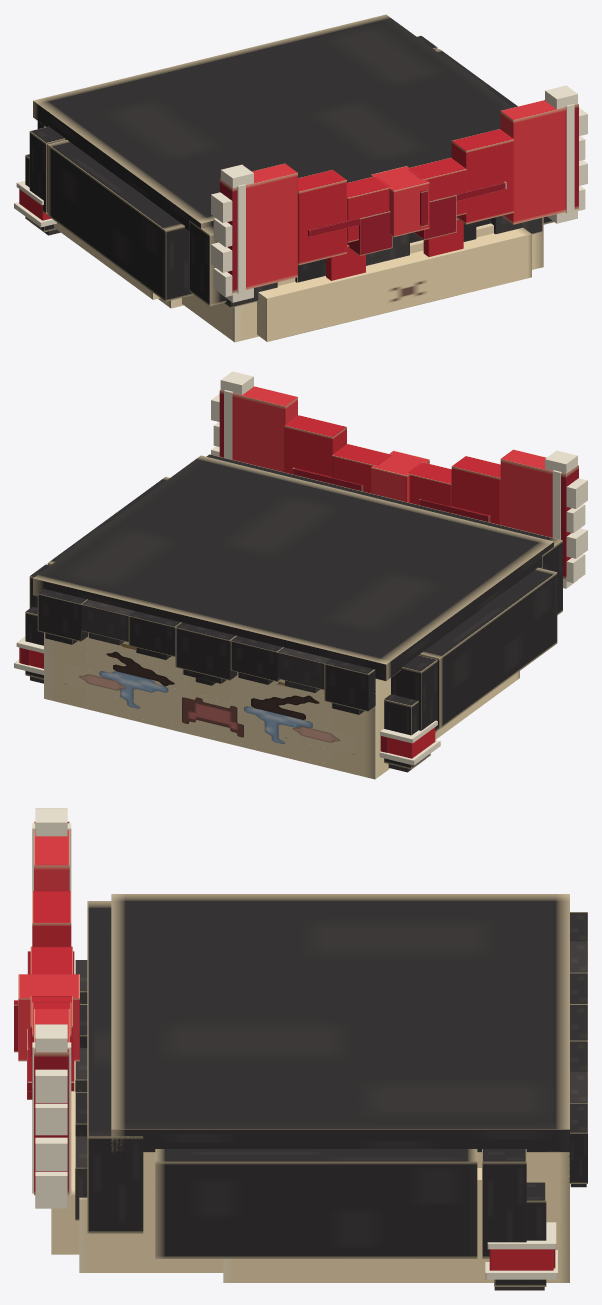
File: compression_reimu_3.obj
The picture shows the model from 3 angles, top to bottom: view 1: azimuth 30°, elevation 25°; view 2: azimuth 150°, elevation 25°; view 3: azimuth 270°, elevation 25°; orthographic projection. The views are drawn at different scales.
Parts seen in each view (by area): view 1: compression_reimu_3; view 2: compression_reimu_3; view 3: compression_reimu_3.
Part boxes in pixels (x1,y1,x2,y2): compression_reimu_3: (14, 14, 587, 342); compression_reimu_3: (14, 371, 587, 779); compression_reimu_3: (14, 808, 587, 1290).
Bounding box in the file's own units: 17.83 × 7.77 × 16.23.
Materials: 1 (1 with a texture image).
